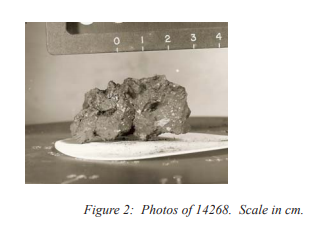Breccia: (71, 79, 199, 141)
